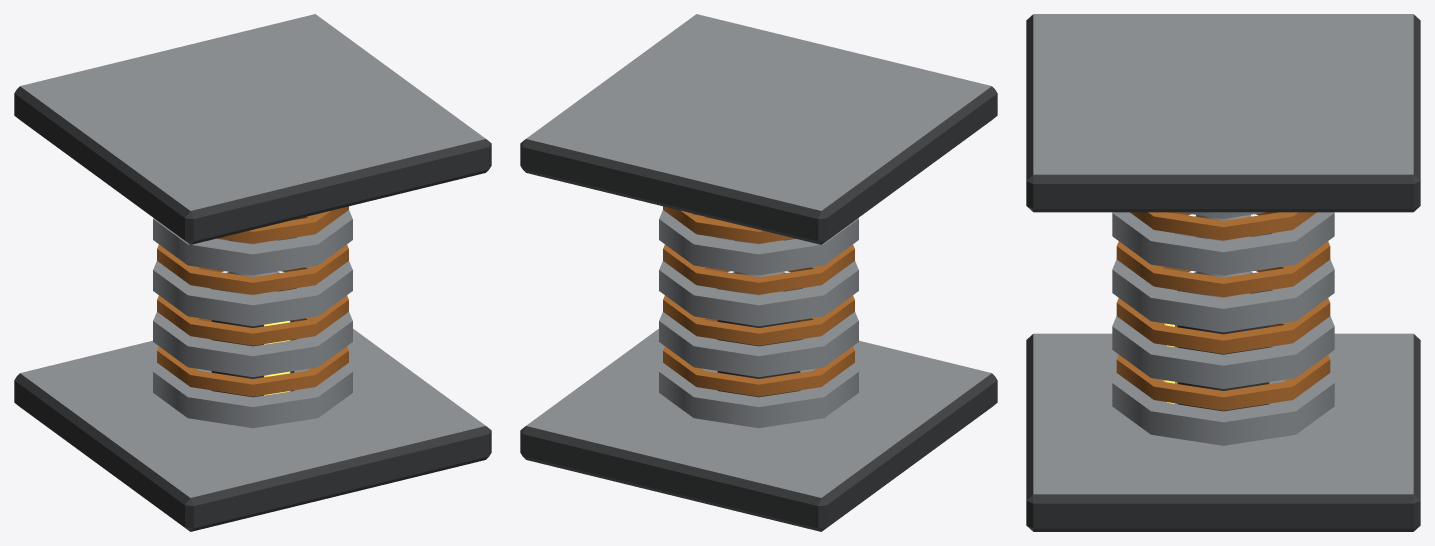
File: R4X_Suspension_LOD1.fbx
3 views of the same model, side by side, from view 1: azimuth 30°, elevation 25°; view 2: azimuth 150°, elevation 25°; view 3: azimuth 270°, elevation 25° (orthographic). The views are drawn at different scales.
Parts seen in each view (by area): view 1: R4X_Suspension_LOD1; view 2: R4X_Suspension_LOD1; view 3: R4X_Suspension_LOD1.
Boxes of the visible parts, left/top/right/bottom form: R4X_Suspension_LOD1: left=14, top=14, right=491, bottom=531; R4X_Suspension_LOD1: left=520, top=14, right=997, bottom=531; R4X_Suspension_LOD1: left=1026, top=14, right=1420, bottom=531.
Bounding box in the file's own units: 0.52 × 0.52 × 0.52.
